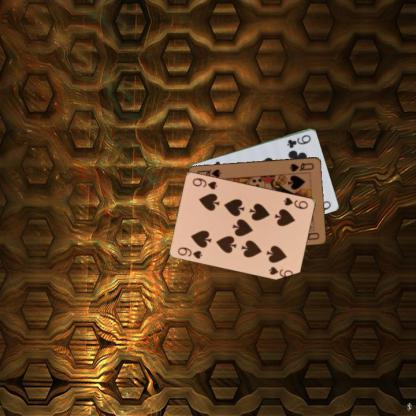9c: (284, 132, 312, 149)
9s: (175, 244, 203, 260), (281, 195, 309, 210)
Qs: (287, 159, 315, 173)
